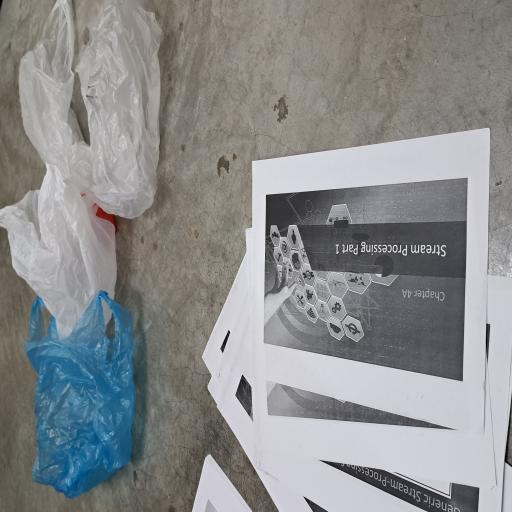paper: (0, 267, 288, 512)
plastic bag: (132, 0, 274, 156), (13, 34, 168, 176), (221, 101, 384, 214), (245, 24, 384, 118)
